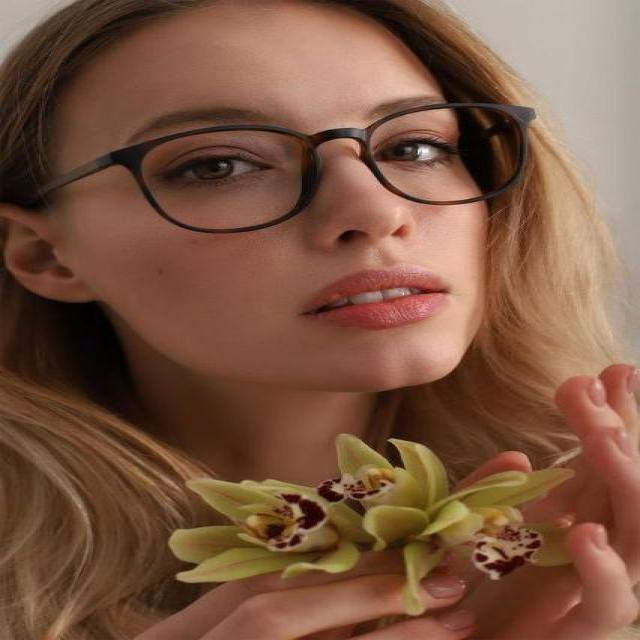glasses: (18, 101, 535, 235)
